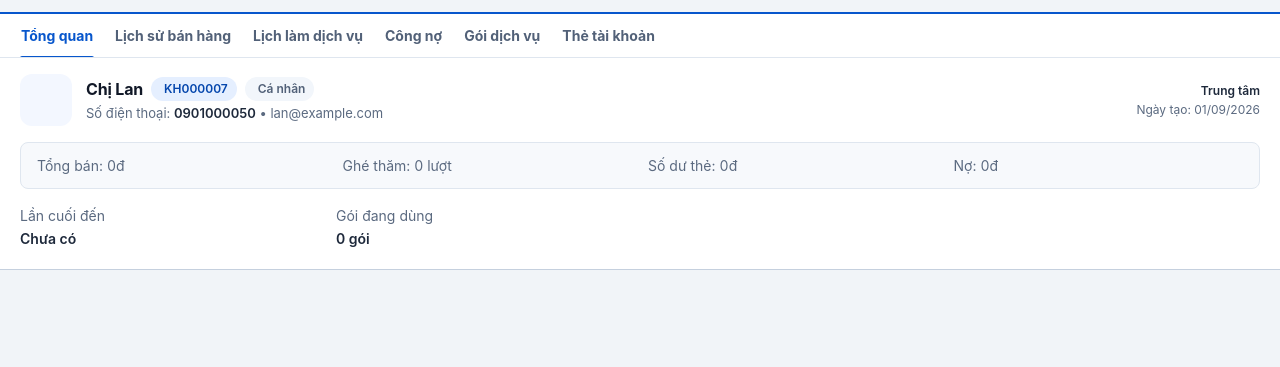
Test: customer service history › names appointment statuses like the appointment lists do
The image size is (1280, 367).
Click the tab "Lịch làm dịch vụ": (308, 36) [252,14,364,57]
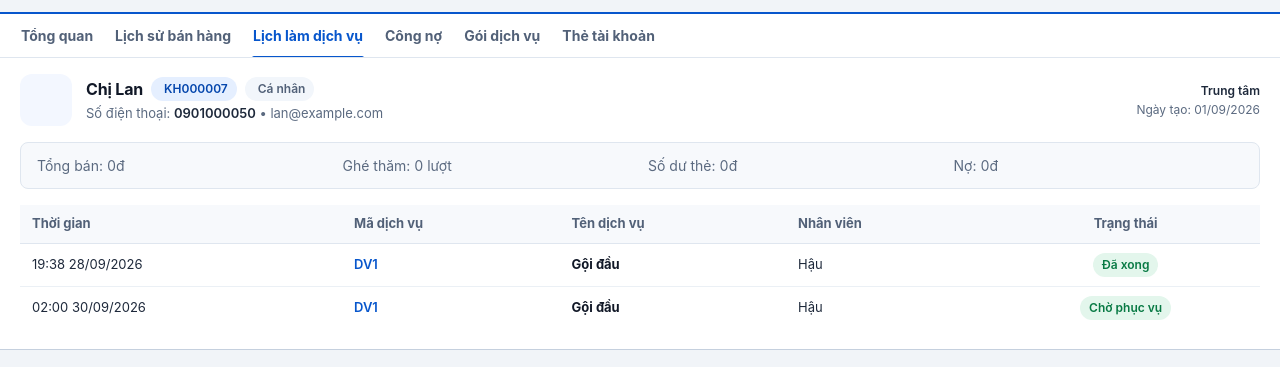
Now the text "Đã xong" is shown, box [1093,252,1158,276]
Now the text "Chờ phục vụ" is shown, box [1080,296,1171,320]
